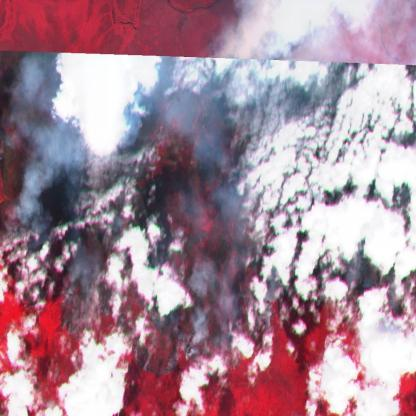fire: (0, 40, 416, 377)
